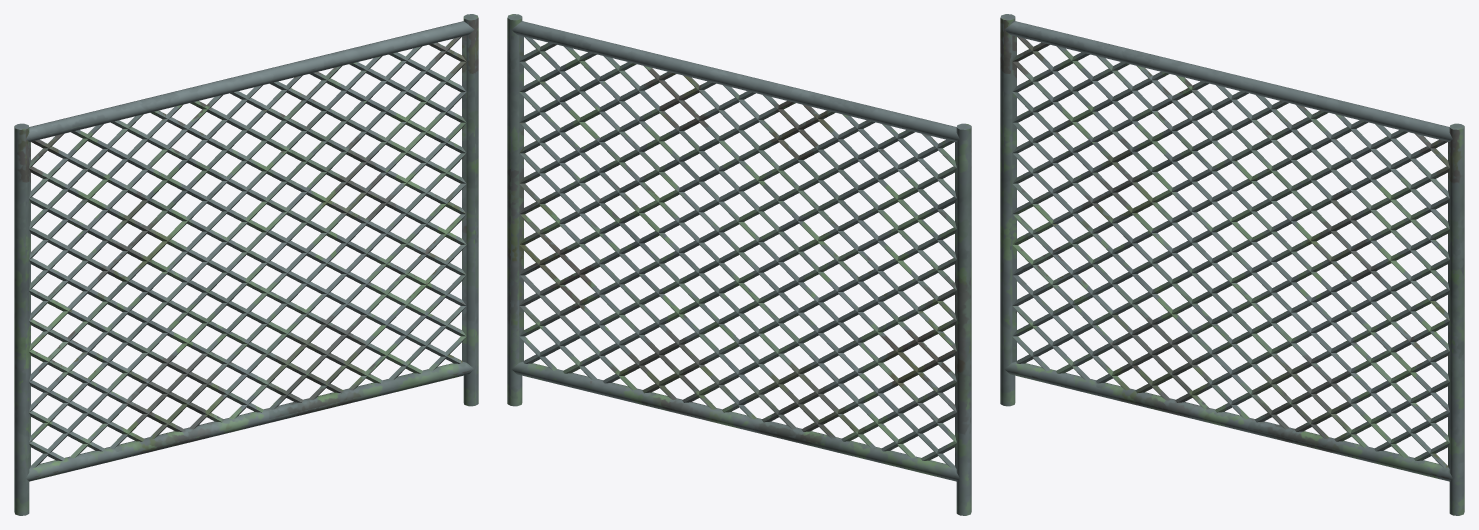
The model's file is Barrière.fbx.
3 renders of one model, left to right at view 1: azimuth 30°, elevation 25°; view 2: azimuth 150°, elevation 25°; view 3: azimuth 330°, elevation 25°, orthographic.
Visible parts, largest first — view 1: Grillage; view 2: Grillage; view 3: Grillage.
Part boxes in pixels (x1,y1,x2,y2): Grillage: (14,14,478,515); Grillage: (507,14,971,515); Grillage: (1000,14,1464,515).
Size of the model in its own units: 1194 by 952 by 34.83.
